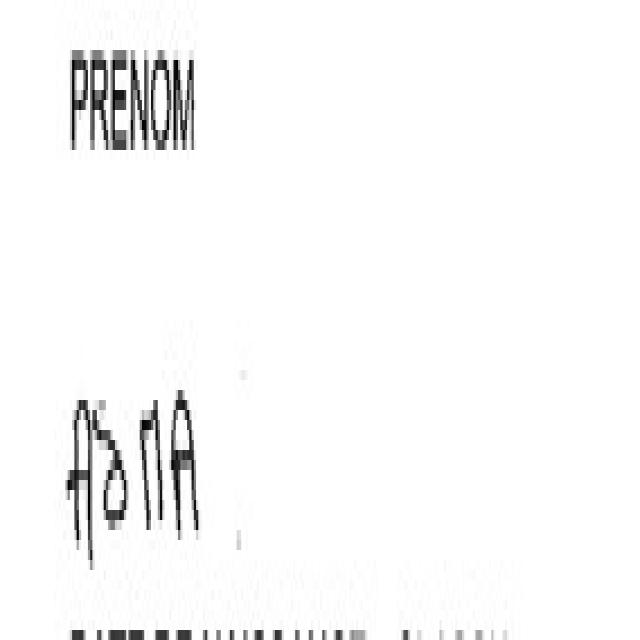A: (167, 341, 220, 598), (56, 338, 93, 598)
H: (140, 381, 163, 559)
S: (97, 352, 141, 543)
